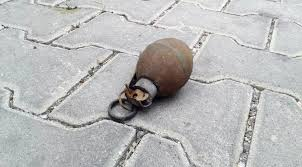e1: (109, 36, 193, 122)
